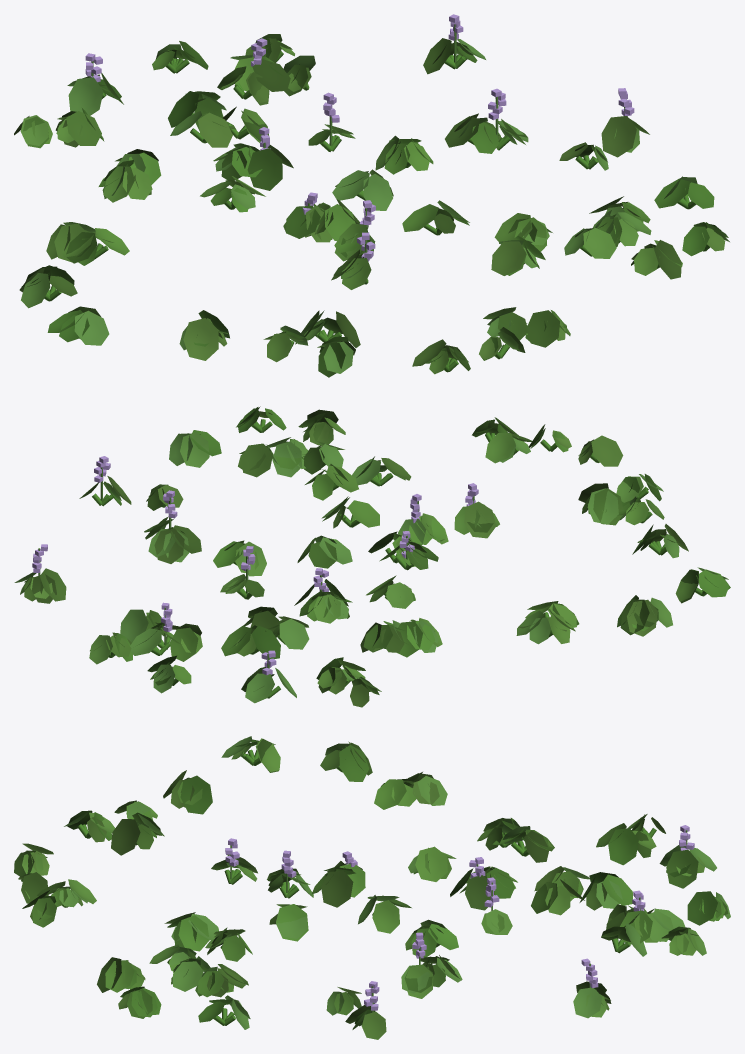
The model's file is hyacinth_2.glb.
3 renders of one model, top to bottom at view 1: azimuth 30°, elevation 25°; view 2: azimuth 150°, elevation 25°; view 3: azimuth 270°, elevation 25°, orthographic. The views are drawn at different scales.
Parts seen in each view (by area): view 1: hyacinth_2; view 2: hyacinth_2; view 3: hyacinth_2.
Boxes of the visible parts, x1,y1,x2,y2 form: hyacinth_2: (14, 14, 729, 377); hyacinth_2: (14, 406, 730, 707); hyacinth_2: (14, 736, 730, 1039).
Bounding box in the file's own units: 4.66 × 0.4175 × 4.84.
